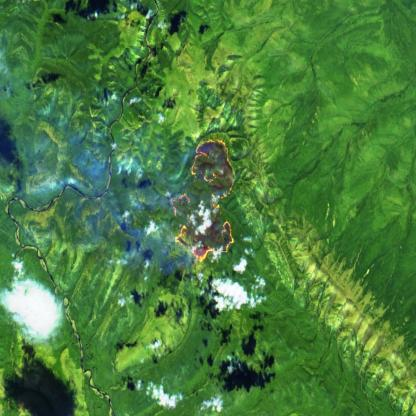fire: (171, 134, 239, 269)
